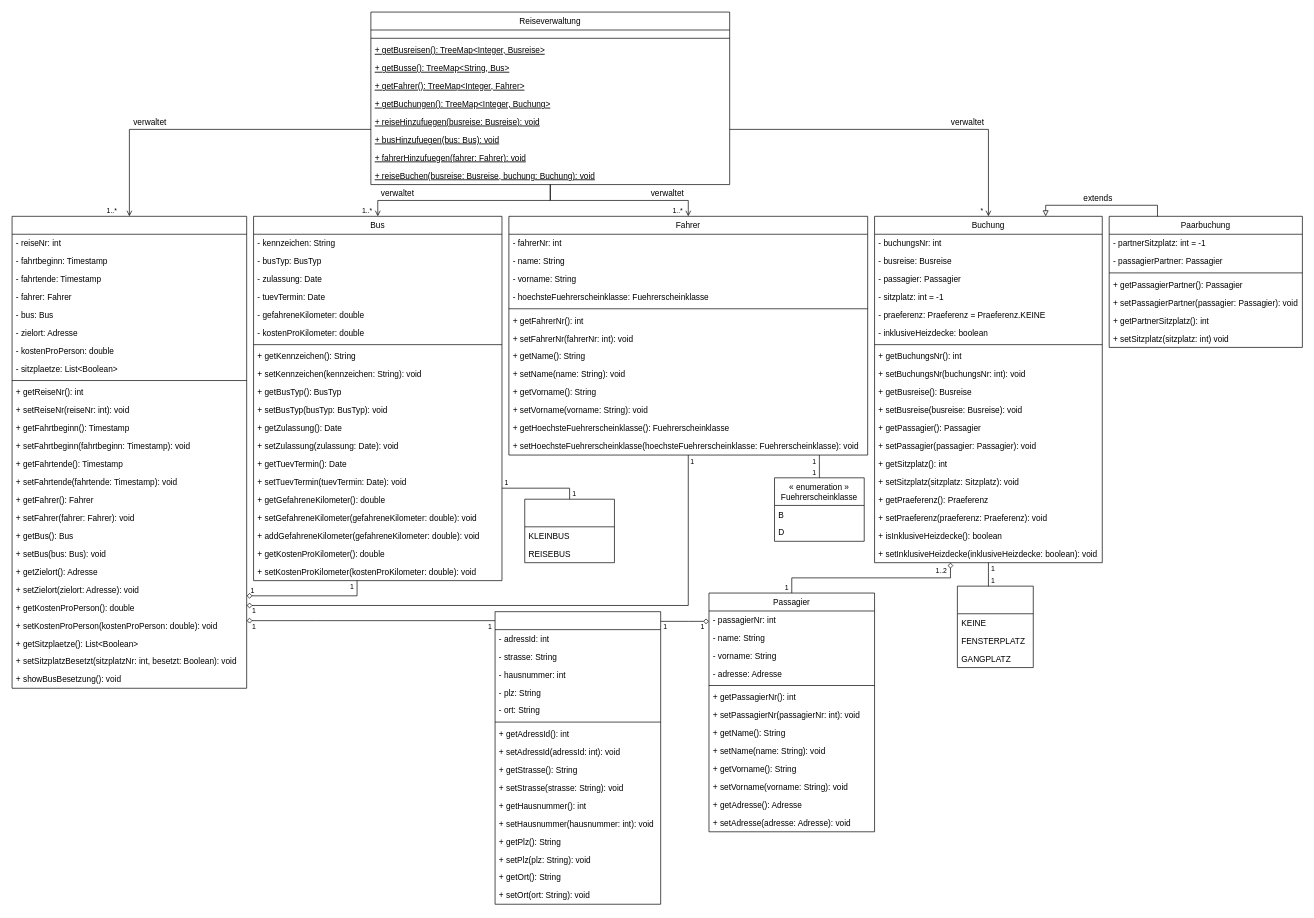
Some shapes in this 1314 by 918 pixel diagram are drawn without their labels. Here are the shapes that lost their labels. From the top down, the box of each, then its label:
(11, 216, 247, 688): Busreise
(524, 499, 614, 563): « enumeration » BusTyp
(957, 585, 1033, 668): « enumeration » Praeferenz
(494, 611, 661, 904): Adresse
